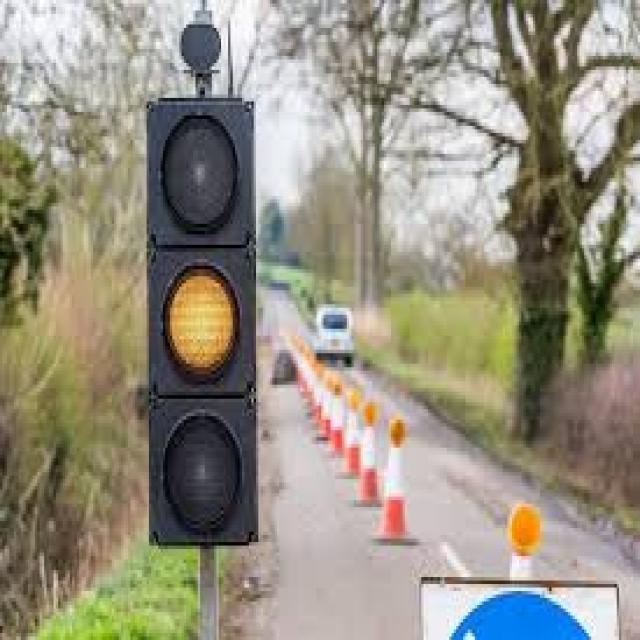yellow light: (149, 100, 256, 534)
